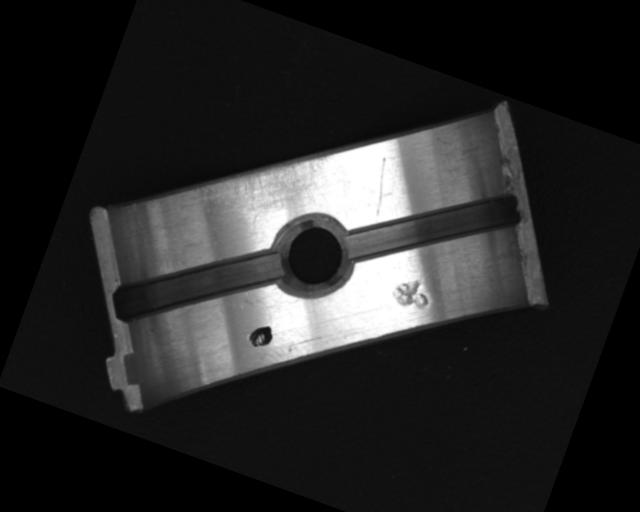blot: (245, 319, 276, 352)
bruise: (389, 270, 436, 314)
gap: (342, 146, 528, 306), (107, 207, 287, 365)
hole: (260, 203, 367, 311)
nick: (361, 157, 400, 223)
scratch: (179, 109, 337, 252)
